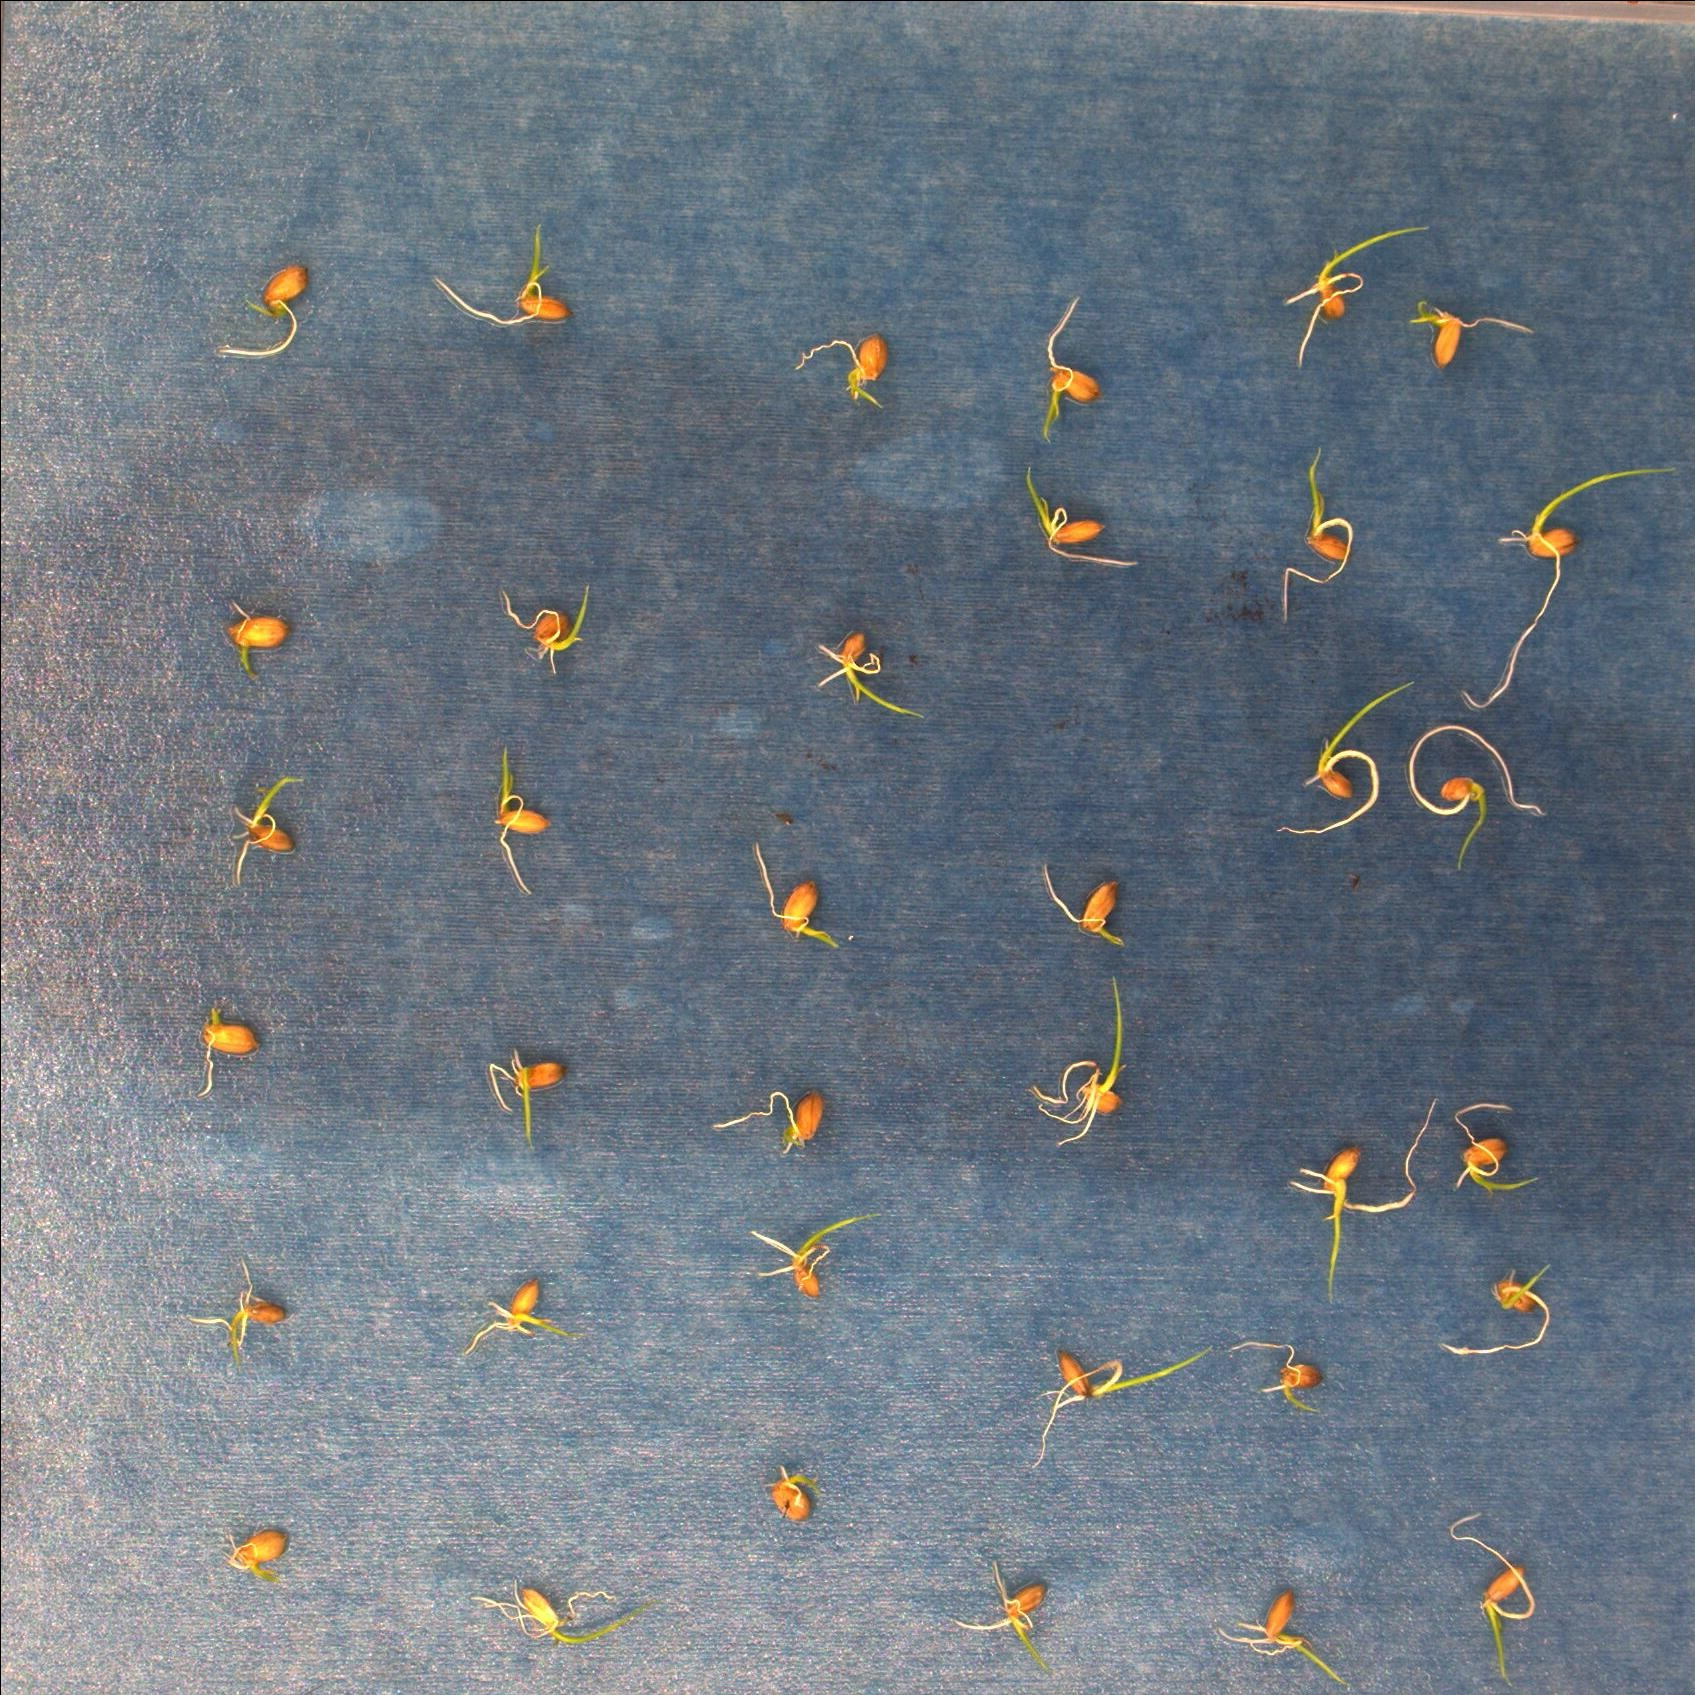not sprout: (199, 1245, 290, 1378), (224, 256, 309, 365), (188, 1001, 267, 1094), (216, 1518, 296, 1579), (757, 1464, 818, 1529)
sprout: (1287, 1093, 1437, 1305), (1461, 447, 1565, 712), (1270, 667, 1426, 820), (1281, 192, 1412, 365), (1000, 1350, 1208, 1456), (1006, 450, 1146, 588), (1029, 983, 1138, 1159), (424, 216, 574, 337), (467, 1555, 644, 1653), (1409, 730, 1538, 861), (1440, 1513, 1541, 1679), (1028, 286, 1125, 453), (1444, 1229, 1568, 1357), (1205, 1562, 1354, 1666), (1273, 450, 1360, 622), (1447, 1097, 1586, 1203), (792, 626, 931, 722), (705, 1077, 834, 1180), (778, 331, 893, 439), (740, 843, 847, 959), (1222, 1333, 1349, 1430), (962, 1534, 1071, 1644), (480, 750, 557, 896), (737, 1212, 861, 1302), (1405, 301, 1546, 374), (477, 1042, 577, 1141), (230, 764, 306, 889), (459, 1277, 570, 1354), (484, 587, 584, 669), (1040, 861, 1127, 948), (222, 588, 286, 677)
